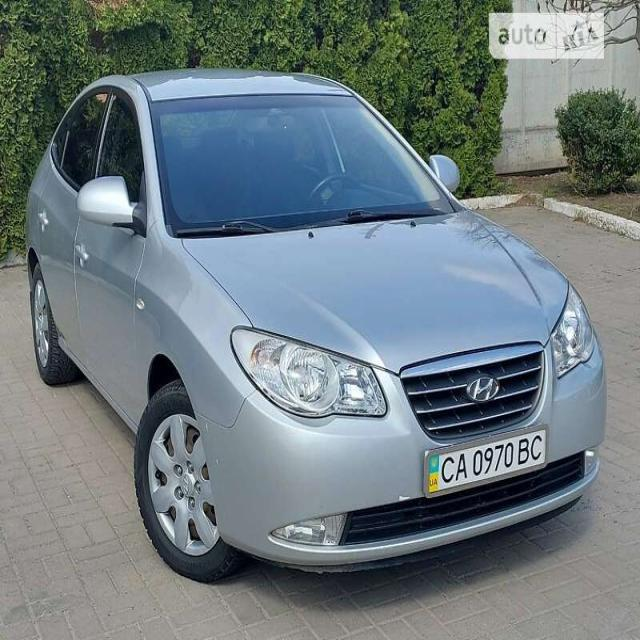plate: (427, 420, 549, 506)
